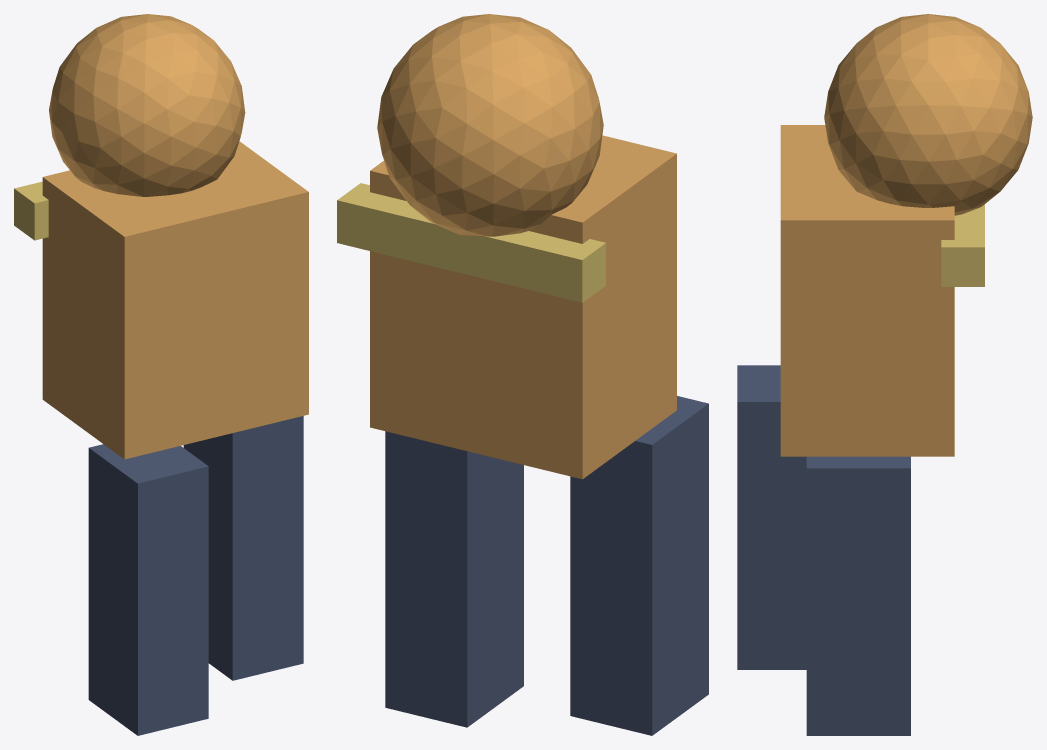
Rendered from enemy_runner.glb.
3 views of the same model, side by side, from view 1: azimuth 30°, elevation 25°; view 2: azimuth 150°, elevation 25°; view 3: azimuth 270°, elevation 25° (orthographic). The views are drawn at different scales.
Parts seen in each view (by area): view 1: geometry_0; view 2: geometry_0; view 3: geometry_0.
Boxes of the visible parts, x1,y1,x2,y2 form: geometry_0: (14,14,308,735); geometry_0: (337,14,708,735); geometry_0: (737,14,1032,735).
Bounding box in the file's own units: 0.3 × 0.84 × 0.34.
